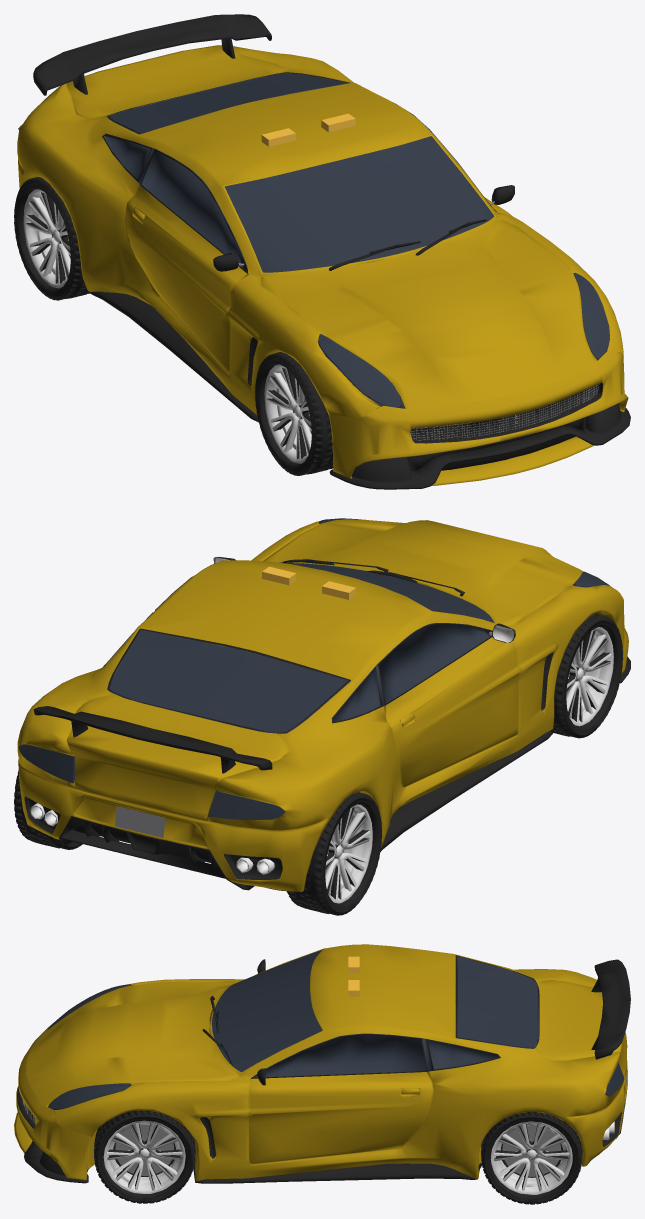
3 views of the same model, one above another, from view 1: azimuth 30°, elevation 25°; view 2: azimuth 150°, elevation 25°; view 3: azimuth 270°, elevation 25° (orthographic). The views are drawn at different scales.
Parts seen in each view (by area): view 1: sc; view 2: sc; view 3: sc.
Part boxes in pixels (x1=…): sc: x1=14, y1=14, x2=630, y2=489; sc: x1=14, y1=518, x2=630, y2=915; sc: x1=14, y1=944, x2=630, y2=1204.
Size of the model in its own units: 2.28 by 1.51 by 4.9.
